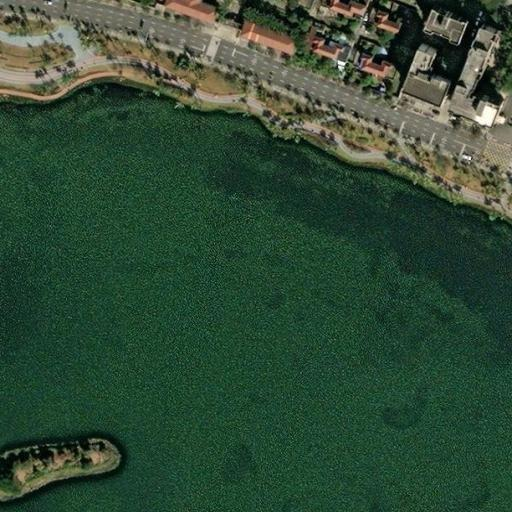building: (464, 28, 504, 96), (455, 90, 511, 132), (234, 22, 294, 57), (396, 63, 445, 103), (359, 1, 408, 40), (421, 5, 467, 41), (343, 51, 390, 82), (305, 36, 342, 62), (406, 45, 433, 71), (368, 47, 377, 60)
